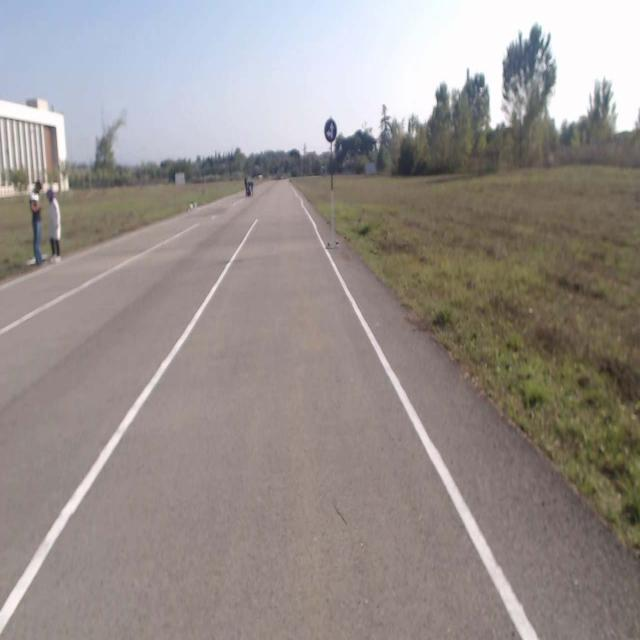ilerisol: (324, 119, 336, 141)
